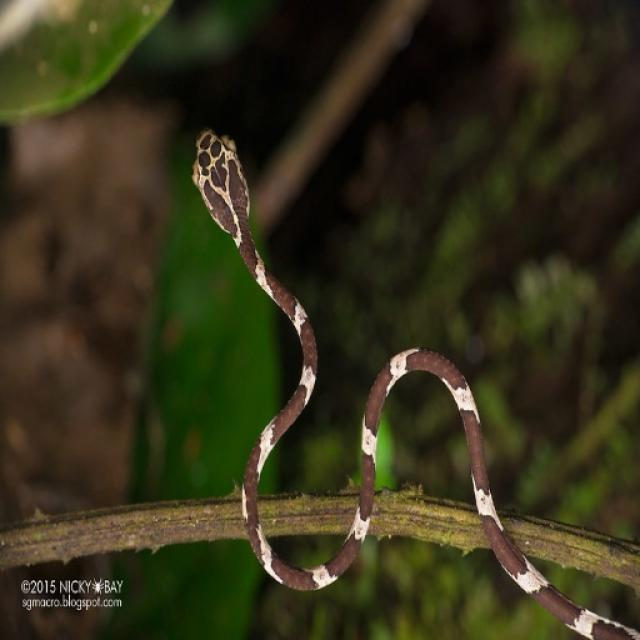snake: (177, 109, 640, 640)
